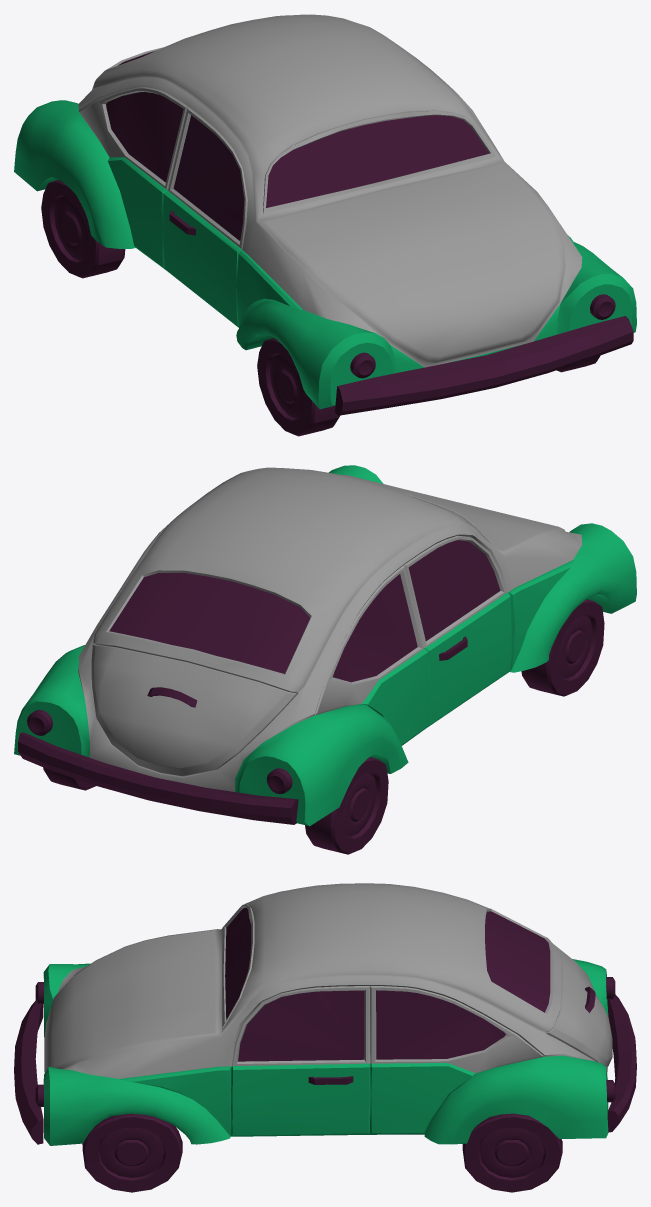
Rendered from Car_Metal_01.FBX.
3 renders of one model, top to bottom at view 1: azimuth 30°, elevation 25°; view 2: azimuth 150°, elevation 25°; view 3: azimuth 270°, elevation 25°, orthographic. The views are drawn at different scales.
Visible parts, largest first — view 1: Car_Metal_01_LOD0; view 2: Car_Metal_01_LOD0; view 3: Car_Metal_01_LOD0.
Part boxes in pixels (x1=…): Car_Metal_01_LOD0: x1=14, y1=14, x2=636, y2=436; Car_Metal_01_LOD0: x1=14, y1=465, x2=636, y2=854; Car_Metal_01_LOD0: x1=14, y1=883, x2=636, y2=1192.
Bounding box in the file's own units: 255 × 194 × 491.
